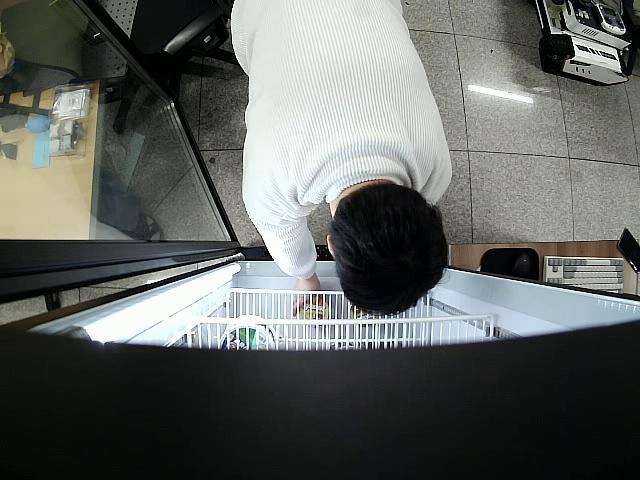04_chapagetti_S: (298, 292, 330, 320)
